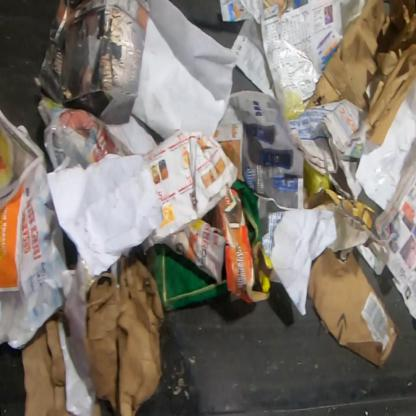cardboard: (306, 0, 416, 146), (87, 254, 165, 415), (309, 247, 400, 368), (22, 316, 66, 416), (93, 395, 103, 415)
soft_plastic: (43, 124, 92, 171), (0, 290, 34, 344), (305, 159, 329, 200), (280, 88, 304, 124)
